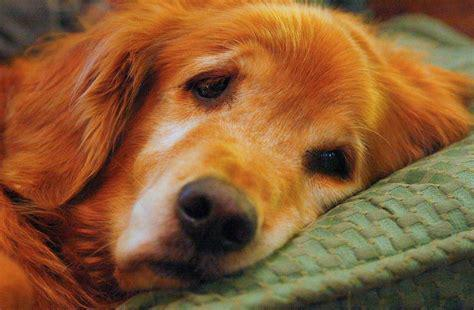dog: (1, 1, 465, 310)
